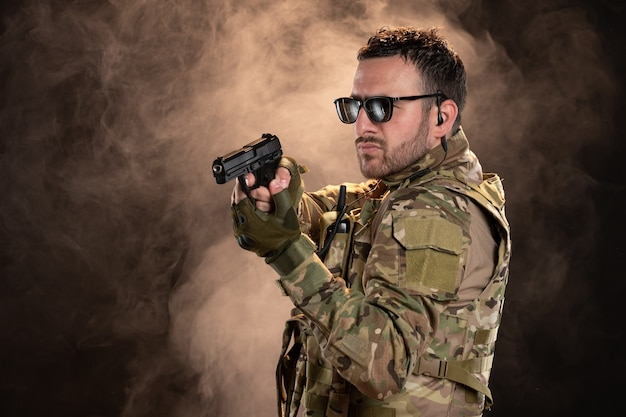gun: (209, 130, 285, 192)
